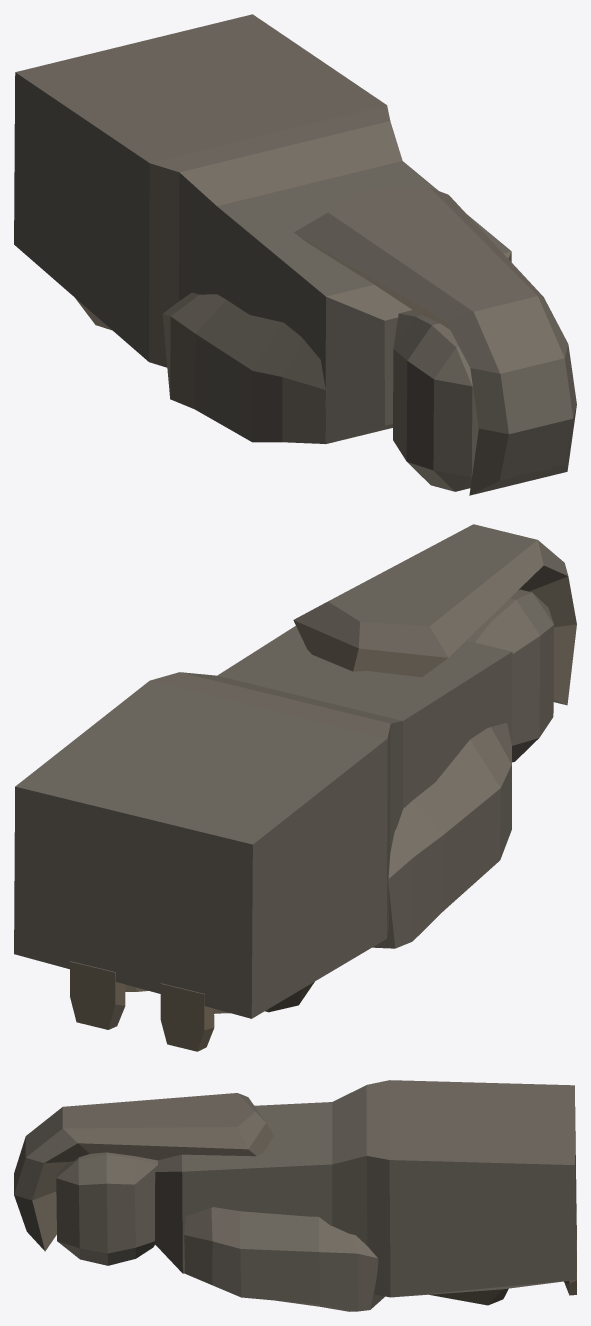
File: stone_baba.fbx
3 views of the same model, one above another, from view 1: azimuth 30°, elevation 25°; view 2: azimuth 150°, elevation 25°; view 3: azimuth 270°, elevation 25° (orthographic). The views are drawn at different scales.
Parts seen in each view (by area): view 1: Cube.009; view 2: Cube.009; view 3: Cube.009.
Part boxes in pixels (bbox=[...]): Cube.009: bbox=[14, 14, 576, 495]; Cube.009: bbox=[14, 524, 576, 1051]; Cube.009: bbox=[14, 1080, 576, 1311].
Size of the model in its own units: 0.2683 by 0.2779 by 0.7693.
